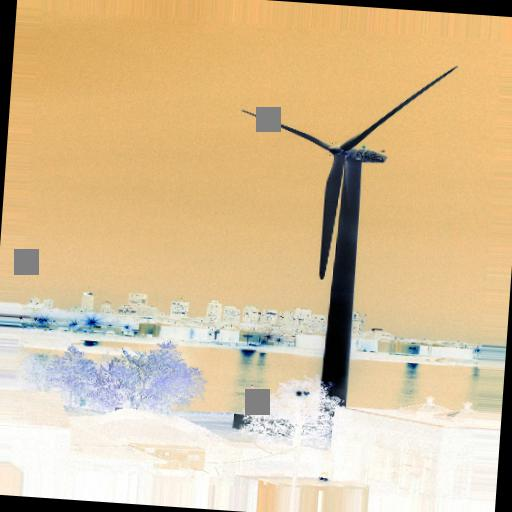wind turbine: (241, 66, 461, 399)
